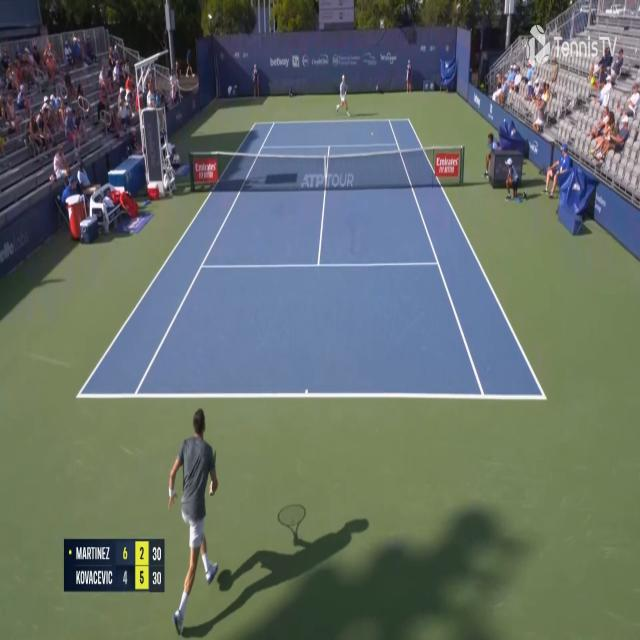tennis-player: (167, 402, 231, 633), (334, 74, 352, 120)
